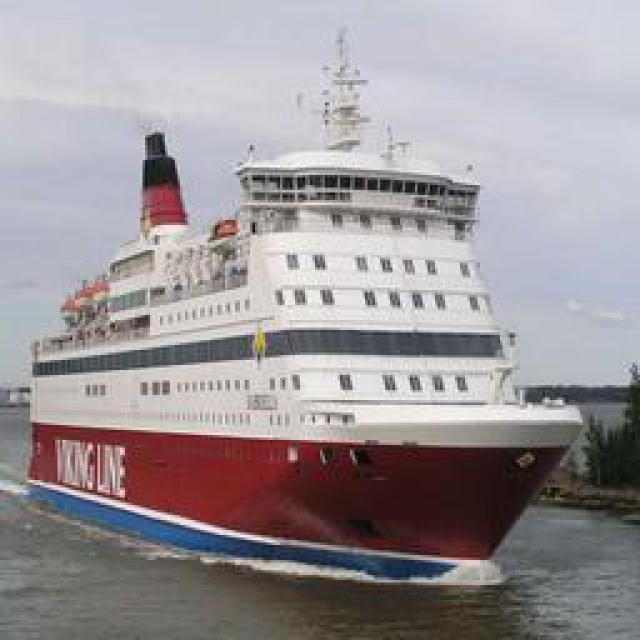Ship: (27, 61, 587, 576)
